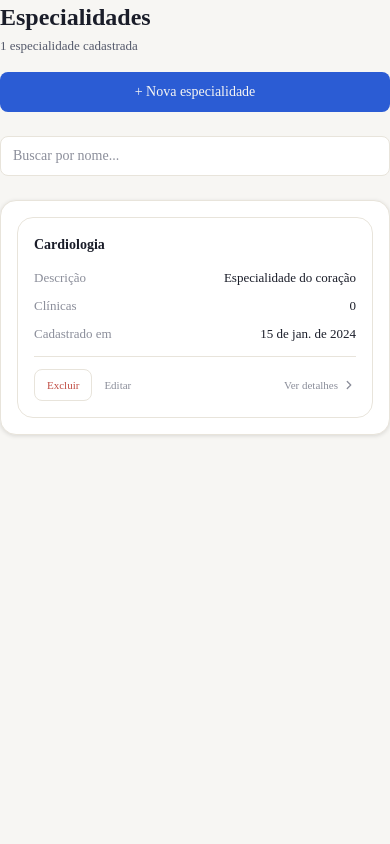
it: SpecialtyList (integration) › mobile cards › clicking delete on a mobile card opens the delete dialog
Click the button with test id "specialty-card-delete-button-uuid-1": (63, 385) [34, 369, 92, 401]
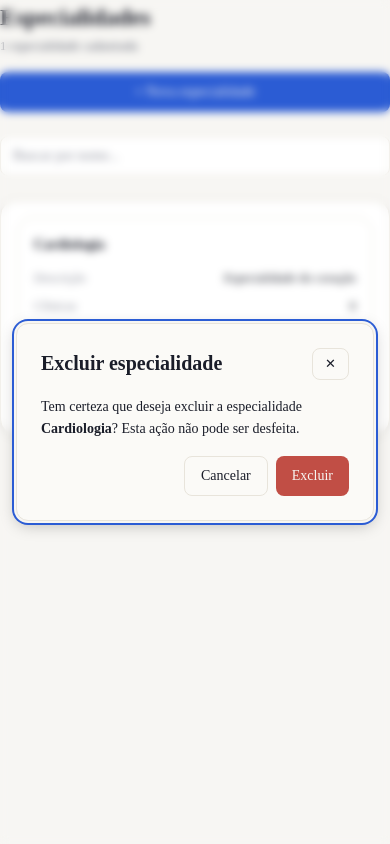
Now the dialog with test id "delete-specialty-dialog" is shown, box [16, 323, 374, 521]
